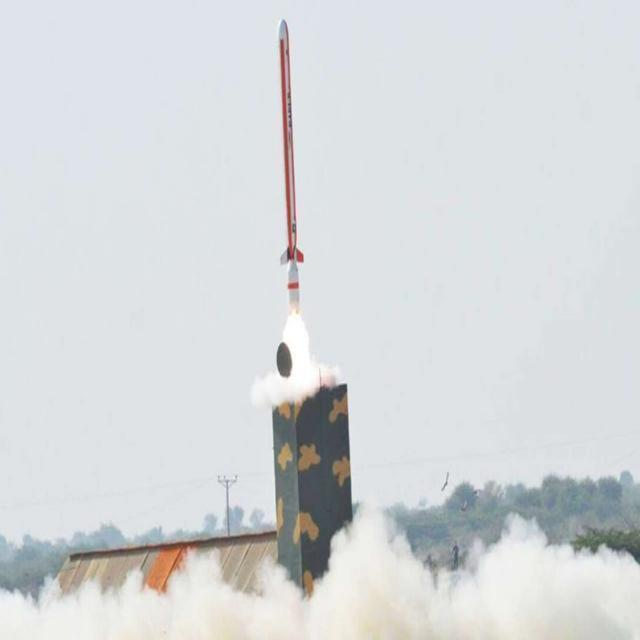Missile: (275, 13, 308, 281)
